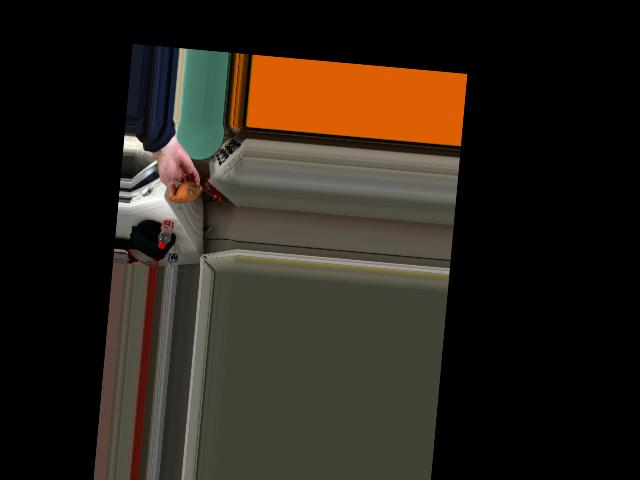sweet_potato: (168, 176, 199, 204)
